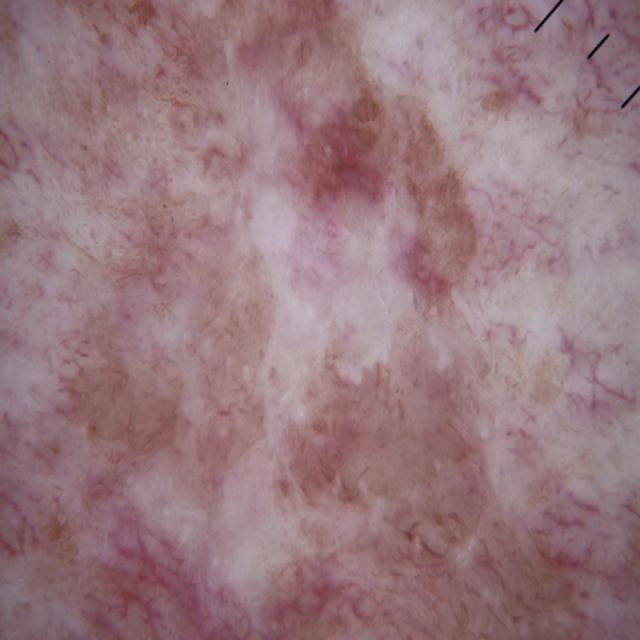Skin-Cancer Pigmented benign keratosis: (4, 5, 640, 640)
